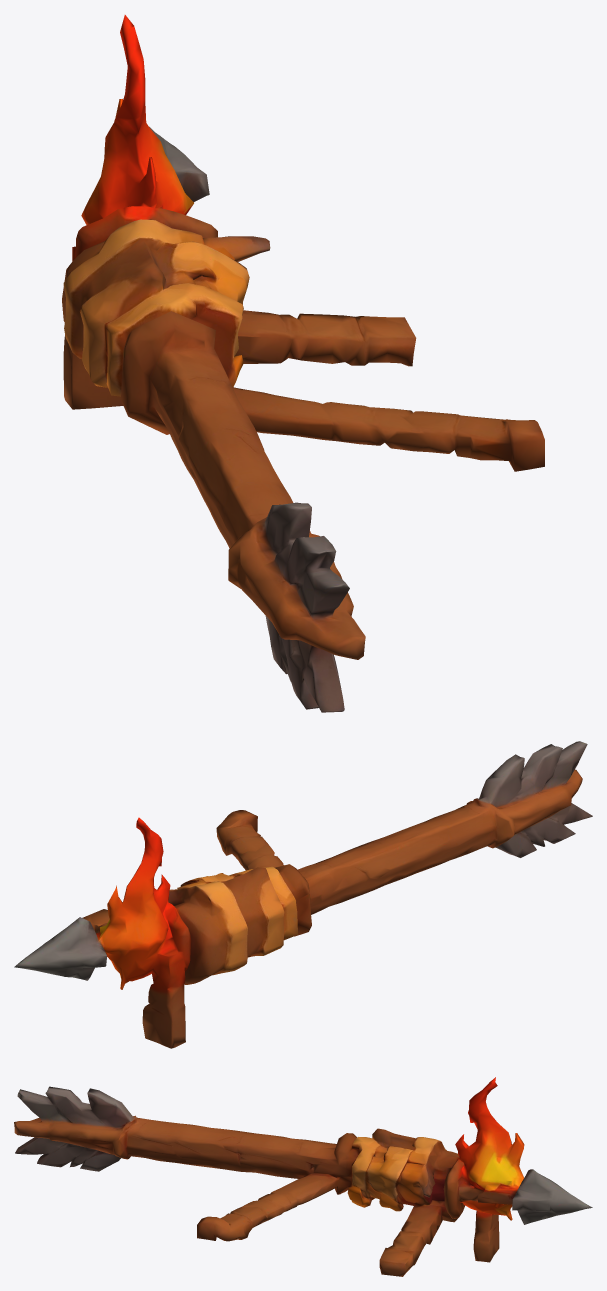
Rendered from fire_bolt.glb.
3 renders of one model, top to bottom at view 1: azimuth 30°, elevation 25°; view 2: azimuth 150°, elevation 25°; view 3: azimuth 270°, elevation 25°, orthographic. The views are drawn at different scales.
Parts seen in each view (by area): view 1: tripo_node_259c2ddc-c063-45ba-9ca7-3825726fd915; view 2: tripo_node_259c2ddc-c063-45ba-9ca7-3825726fd915; view 3: tripo_node_259c2ddc-c063-45ba-9ca7-3825726fd915.
Part boxes in pixels (<box>): tripo_node_259c2ddc-c063-45ba-9ca7-3825726fd915: <box>62,15,544,712</box>; tripo_node_259c2ddc-c063-45ba-9ca7-3825726fd915: <box>14,741,592,1048</box>; tripo_node_259c2ddc-c063-45ba-9ca7-3825726fd915: <box>14,1077,592,1276</box>.
Bounding box in the file's own units: 0.4706 × 0.3557 × 1.
Materials: 1 (1 with a texture image).
